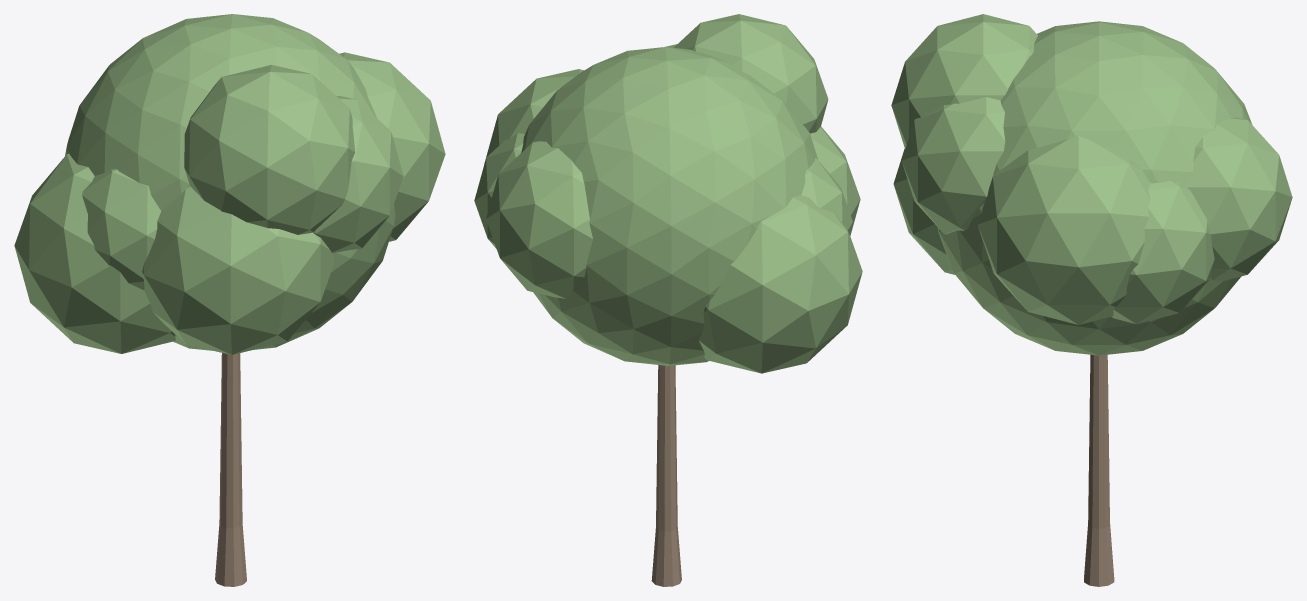
File: tree.glb
The picture shows the model from 3 angles, left to right: view 1: azimuth 30°, elevation 25°; view 2: azimuth 150°, elevation 25°; view 3: azimuth 270°, elevation 25°; orthographic projection. The views are drawn at different scales.
Parts seen in each view (by area): view 1: tree_leaf, tree_bark; view 2: tree_leaf, tree_bark; view 3: tree_leaf, tree_bark.
Boxes of the visible parts, left/top/right/bottom form: tree_leaf: left=14, top=14, right=445, bottom=354; tree_bark: left=215, top=353, right=246, bottom=586; tree_leaf: left=474, top=14, right=862, bottom=373; tree_bark: left=651, top=365, right=681, bottom=586; tree_leaf: left=891, top=14, right=1292, bottom=355; tree_bark: left=1084, top=354, right=1114, bottom=586.
Size of the model in its own units: 4.99 by 6.84 by 4.53.
